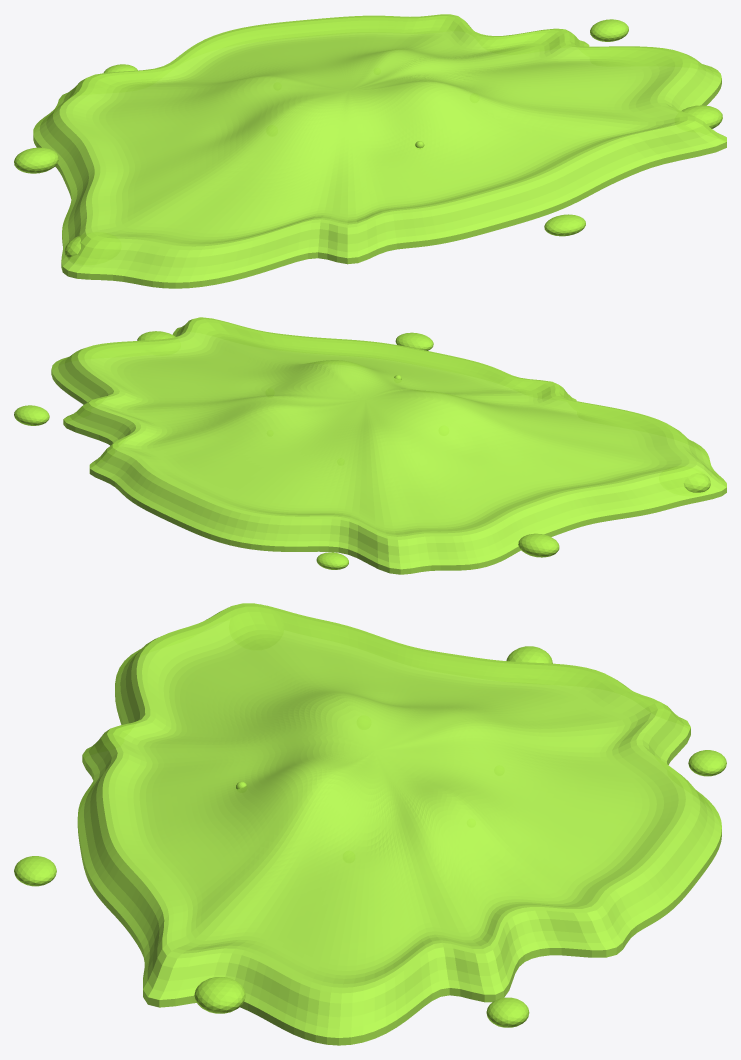
The model's file is Gosma_Baba_de_Bruxa.glb.
3 renders of one model, top to bottom at view 1: azimuth 30°, elevation 25°; view 2: azimuth 150°, elevation 25°; view 3: azimuth 270°, elevation 25°, orthographic. The views are drawn at different scales.
Visible parts, largest first — view 1: Gosma_Baba_de_Bruxa; view 2: Gosma_Baba_de_Bruxa; view 3: Gosma_Baba_de_Bruxa.
Boxes of the visible parts, x1,y1,x2,y2 form: Gosma_Baba_de_Bruxa: [14, 14, 726, 288]; Gosma_Baba_de_Bruxa: [14, 317, 726, 574]; Gosma_Baba_de_Bruxa: [14, 603, 726, 1045].
Size of the model in its own units: 4.69 by 0.4713 by 3.32.
